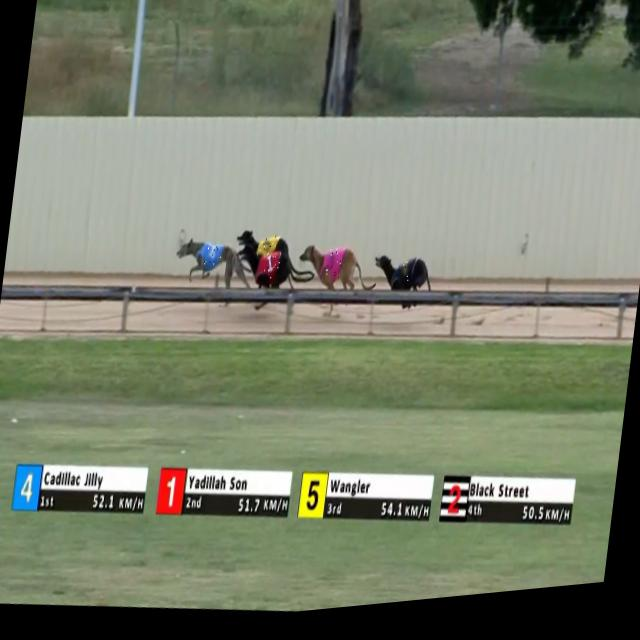dog_eight: (324, 252, 343, 288)
dog_five: (257, 238, 276, 264)
dog_four: (203, 249, 224, 274)
dog_one: (260, 257, 280, 287)
dog_seven: (397, 265, 412, 292)
